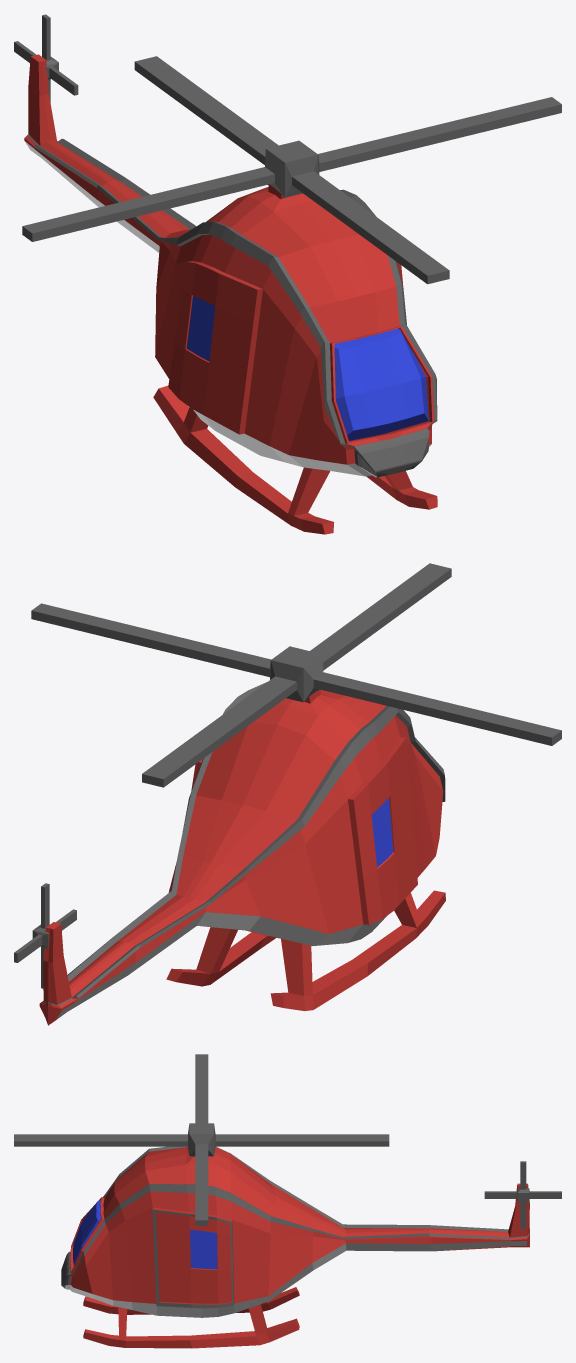
The model's file is Helico01.gltf.
The picture shows the model from 3 angles, top to bottom: view 1: azimuth 30°, elevation 25°; view 2: azimuth 150°, elevation 25°; view 3: azimuth 270°, elevation 25°; orthographic projection. The views are drawn at different scales.
Parts seen in each view (by area): view 1: Helico, Helice, Portes, Helice.001; view 2: Helico, Helice, Portes, Helice.001; view 3: Helico, Portes, Helice, Helice.001.
Boxes of the visible parts, x1,y1,x2,y2 form: Helico: (24,54,437,534); Helice: (22,56,561,284); Portes: (168,261,403,434); Helice.001: (14,14,78,102); Helico: (39,682,445,1025); Helice: (31,563,561,787); Portes: (191,737,417,924); Helice.001: (14,883,76,988); Helico: (61,1146,529,1348); Portes: (152,1207,234,1308); Helice: (14,1054,389,1225); Helice.001: (484,1161,561,1228).
Bounding box in the file's own units: 8.23 × 4.68 × 11.5.
